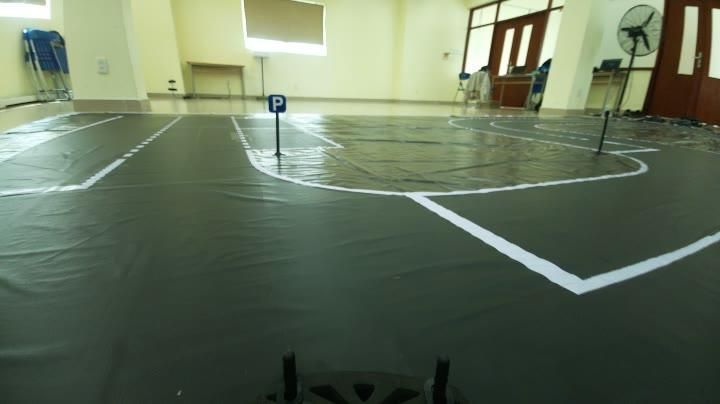parking: (263, 88, 290, 116)
